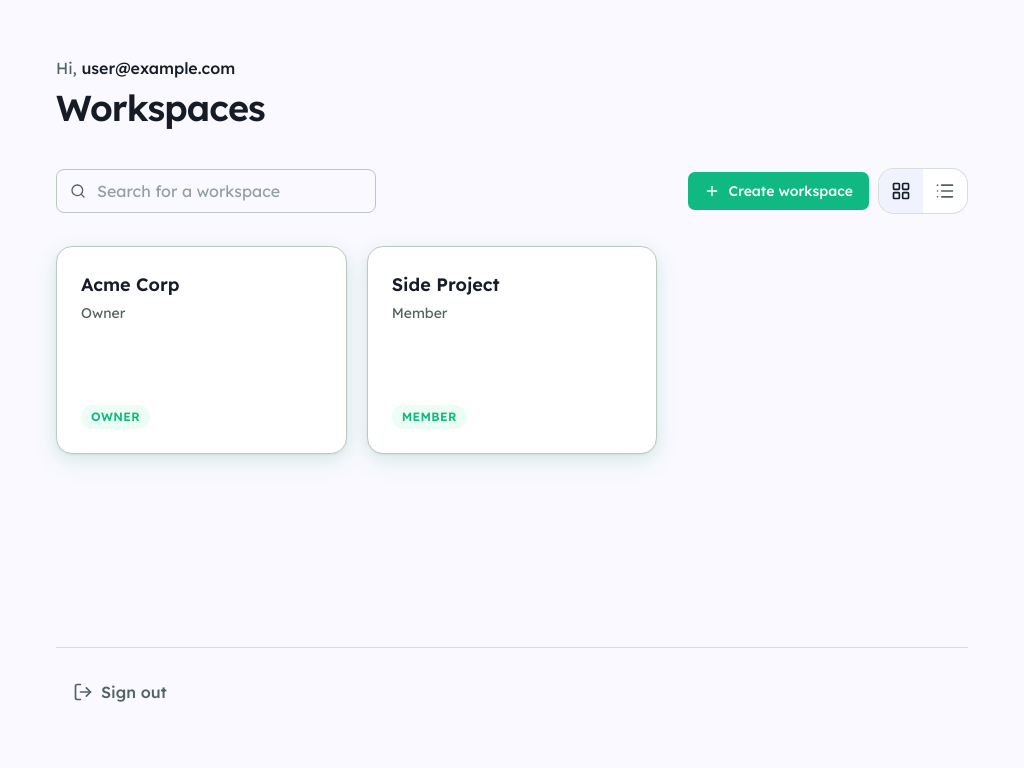
Test: WorkspaceChooser page › filters workspace list by search query
The image size is (1024, 768).
expect the text "Acme Corp" is shown: met, box [81,271,180,299]
Type "Acme" into the field with placeholder "Search for a workspace" at (216,191), box [56,169,376,213]
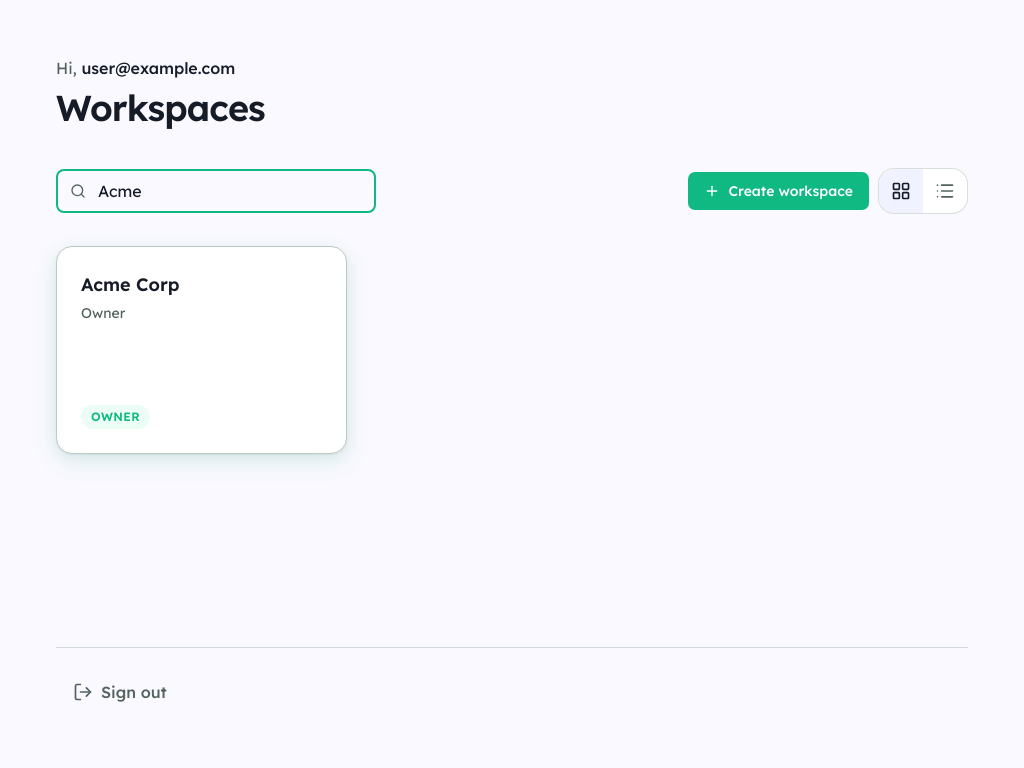
expect the text "Acme Corp" is shown: met, box [81,271,180,299]
expect the button "Side Project" is gone: met
